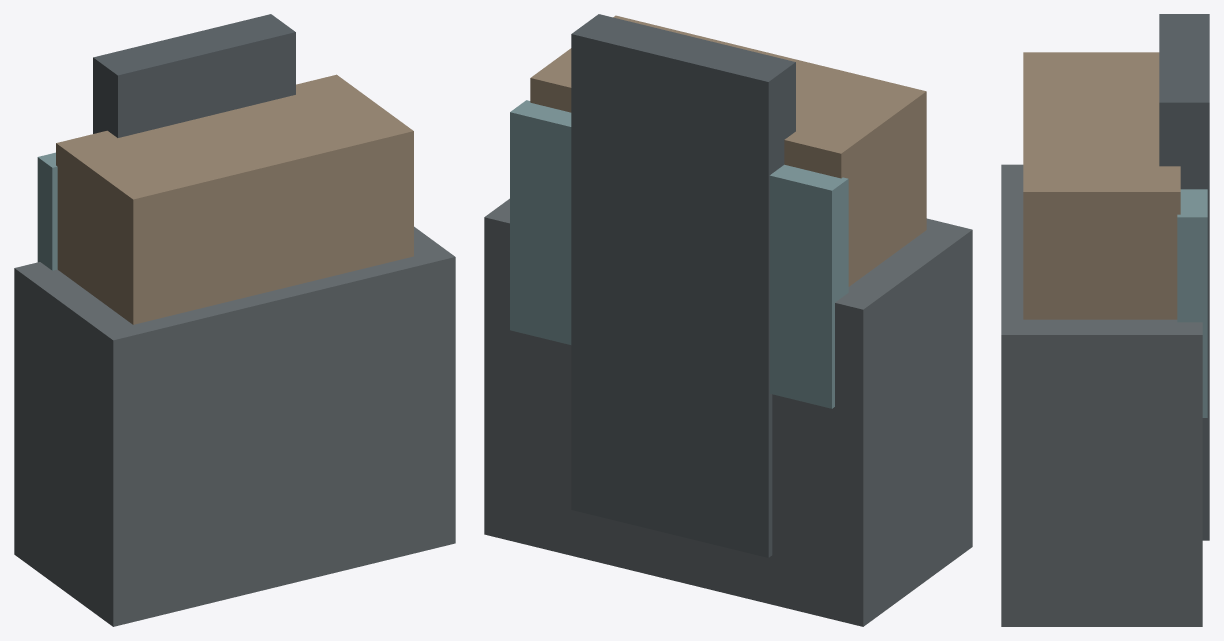
The model's file is iz3_build_defense_alarm_02.glb.
3 views of the same model, side by side, from view 1: azimuth 30°, elevation 25°; view 2: azimuth 150°, elevation 25°; view 3: azimuth 270°, elevation 25° (orthographic). The views are drawn at different scales.
Visible parts, largest first — view 1: base, cabinet, panel, display; view 2: panel, base, display, cabinet; view 3: base, cabinet, panel, display.
Part boxes in pixels (x1,y1,x2,y2): base: (14, 226, 455, 626); cabinet: (56, 74, 413, 324); panel: (93, 14, 295, 137); display: (37, 152, 57, 270); panel: (571, 14, 795, 557); base: (484, 198, 972, 626); display: (510, 100, 848, 408); cabinet: (530, 15, 926, 286); base: (1001, 164, 1202, 626); cabinet: (1023, 52, 1180, 319); panel: (1159, 14, 1209, 540); display: (1177, 189, 1207, 417).
Bounding box in the file's own units: 0.4 × 0.53 × 0.207.
